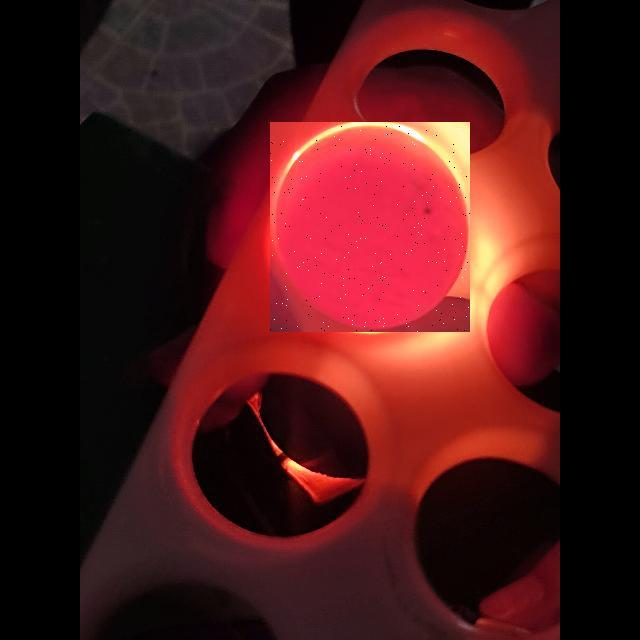A - Good: (270, 122, 470, 332)
